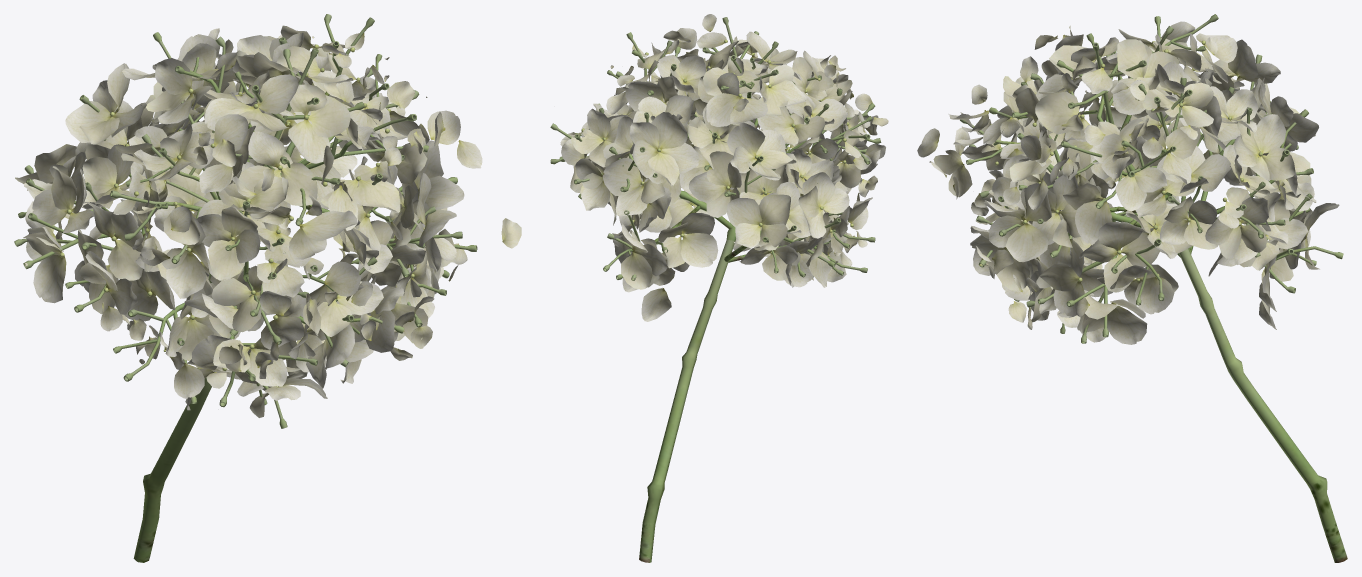
The model's file is hydrangea.glb.
3 renders of one model, left to right at view 1: azimuth 30°, elevation 25°; view 2: azimuth 150°, elevation 25°; view 3: azimuth 270°, elevation 25°, orthographic. The views are drawn at different scales.
Parts seen in each view (by area): view 1: floral_002, stem_002, floral_002.127, floral_002.041, floral_002.049, floral_002.002, floral_002.126, floral_002.062; view 2: floral_002, stem_002; view 3: floral_002, stem_002, floral_002.125.
Part boxes in pixels (bbox=[...]): floral_002: bbox=[15, 25, 464, 417]; stem_002: bbox=[14, 14, 477, 562]; floral_002.127: bbox=[299, 210, 357, 240]; floral_002.041: bbox=[324, 261, 360, 296]; floral_002.049: bbox=[174, 363, 204, 398]; floral_002.002: bbox=[427, 110, 460, 144]; floral_002.126: bbox=[289, 225, 326, 259]; floral_002.062: bbox=[115, 280, 158, 321]; floral_002: bbox=[561, 31, 877, 321]; stem_002: bbox=[550, 17, 881, 562]; floral_002: bbox=[953, 21, 1339, 344]; stem_002: bbox=[960, 14, 1347, 562]; floral_002.125: bbox=[933, 150, 972, 197].
Size of what is drawn, in the model's own units: 0.1665 by 0.2418 by 0.1769.
3 materials, 3 textured.
